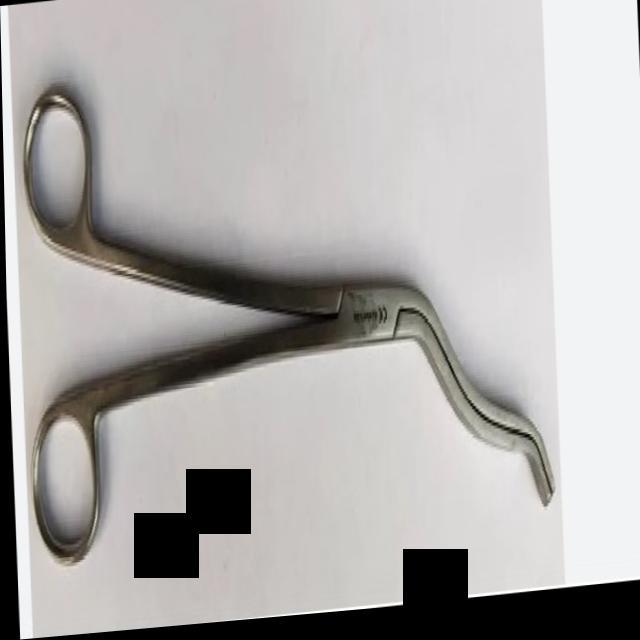Cheatle Forceps: (13, 34, 556, 568)
